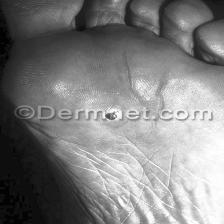Benign Marking or Mole: (106, 109, 119, 121)
